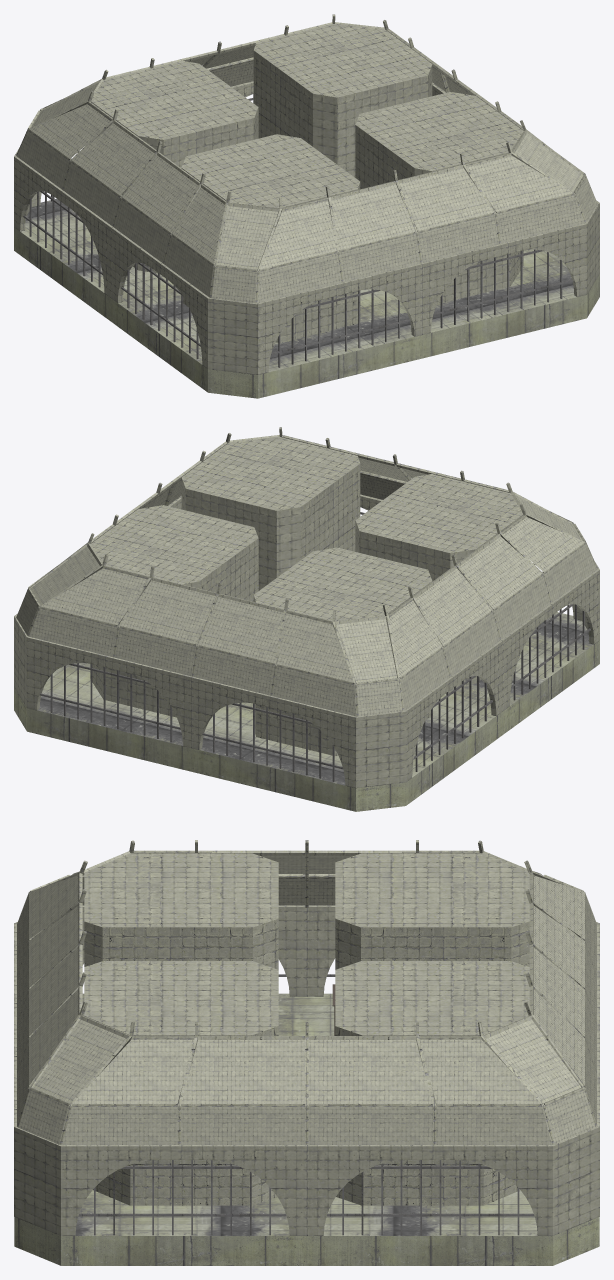
The model's file is SM_TheSamePlace_03_Block_00.fbx.
The picture shows the model from 3 angles, top to bottom: view 1: azimuth 30°, elevation 25°; view 2: azimuth 150°, elevation 25°; view 3: azimuth 270°, elevation 25°; orthographic projection. The views are drawn at different scales.
Parts seen in each view (by area): view 1: SM_TheSamePlace_03_Block_00, SM_TheSamePlace_03_Block_00.004, SM_TheSamePlace_03_Block_00.003, INDUS_windowframe.001; view 2: SM_TheSamePlace_03_Block_00, SM_TheSamePlace_03_Block_00.004, SM_TheSamePlace_03_Block_00.003, INDUS_windowframe.001; view 3: SM_TheSamePlace_03_Block_00, SM_TheSamePlace_03_Block_00.004, SM_TheSamePlace_03_Block_00.003, INDUS_windowframe.001.
Boxes of the visible parts, left/top/right/bottom form: SM_TheSamePlace_03_Block_00: left=14, top=23, right=599, bottom=398; SM_TheSamePlace_03_Block_00.004: left=16, top=45, right=597, bottom=303; SM_TheSamePlace_03_Block_00.003: left=16, top=14, right=586, bottom=303; INDUS_windowframe.001: left=23, top=94, right=573, bottom=367; SM_TheSamePlace_03_Block_00: left=14, top=436, right=599, bottom=811; SM_TheSamePlace_03_Block_00.004: left=16, top=457, right=597, bottom=716; SM_TheSamePlace_03_Block_00.003: left=27, top=427, right=597, bottom=716; INDUS_windowframe.001: left=40, top=512, right=590, bottom=781; SM_TheSamePlace_03_Block_00: left=14, top=853, right=599, bottom=1265; SM_TheSamePlace_03_Block_00.004: left=17, top=855, right=596, bottom=1144; SM_TheSamePlace_03_Block_00.003: left=17, top=840, right=596, bottom=1144; INDUS_windowframe.001: left=78, top=974, right=534, bottom=1235.
Size of the model in its own units: 2312 by 949 by 2361.
